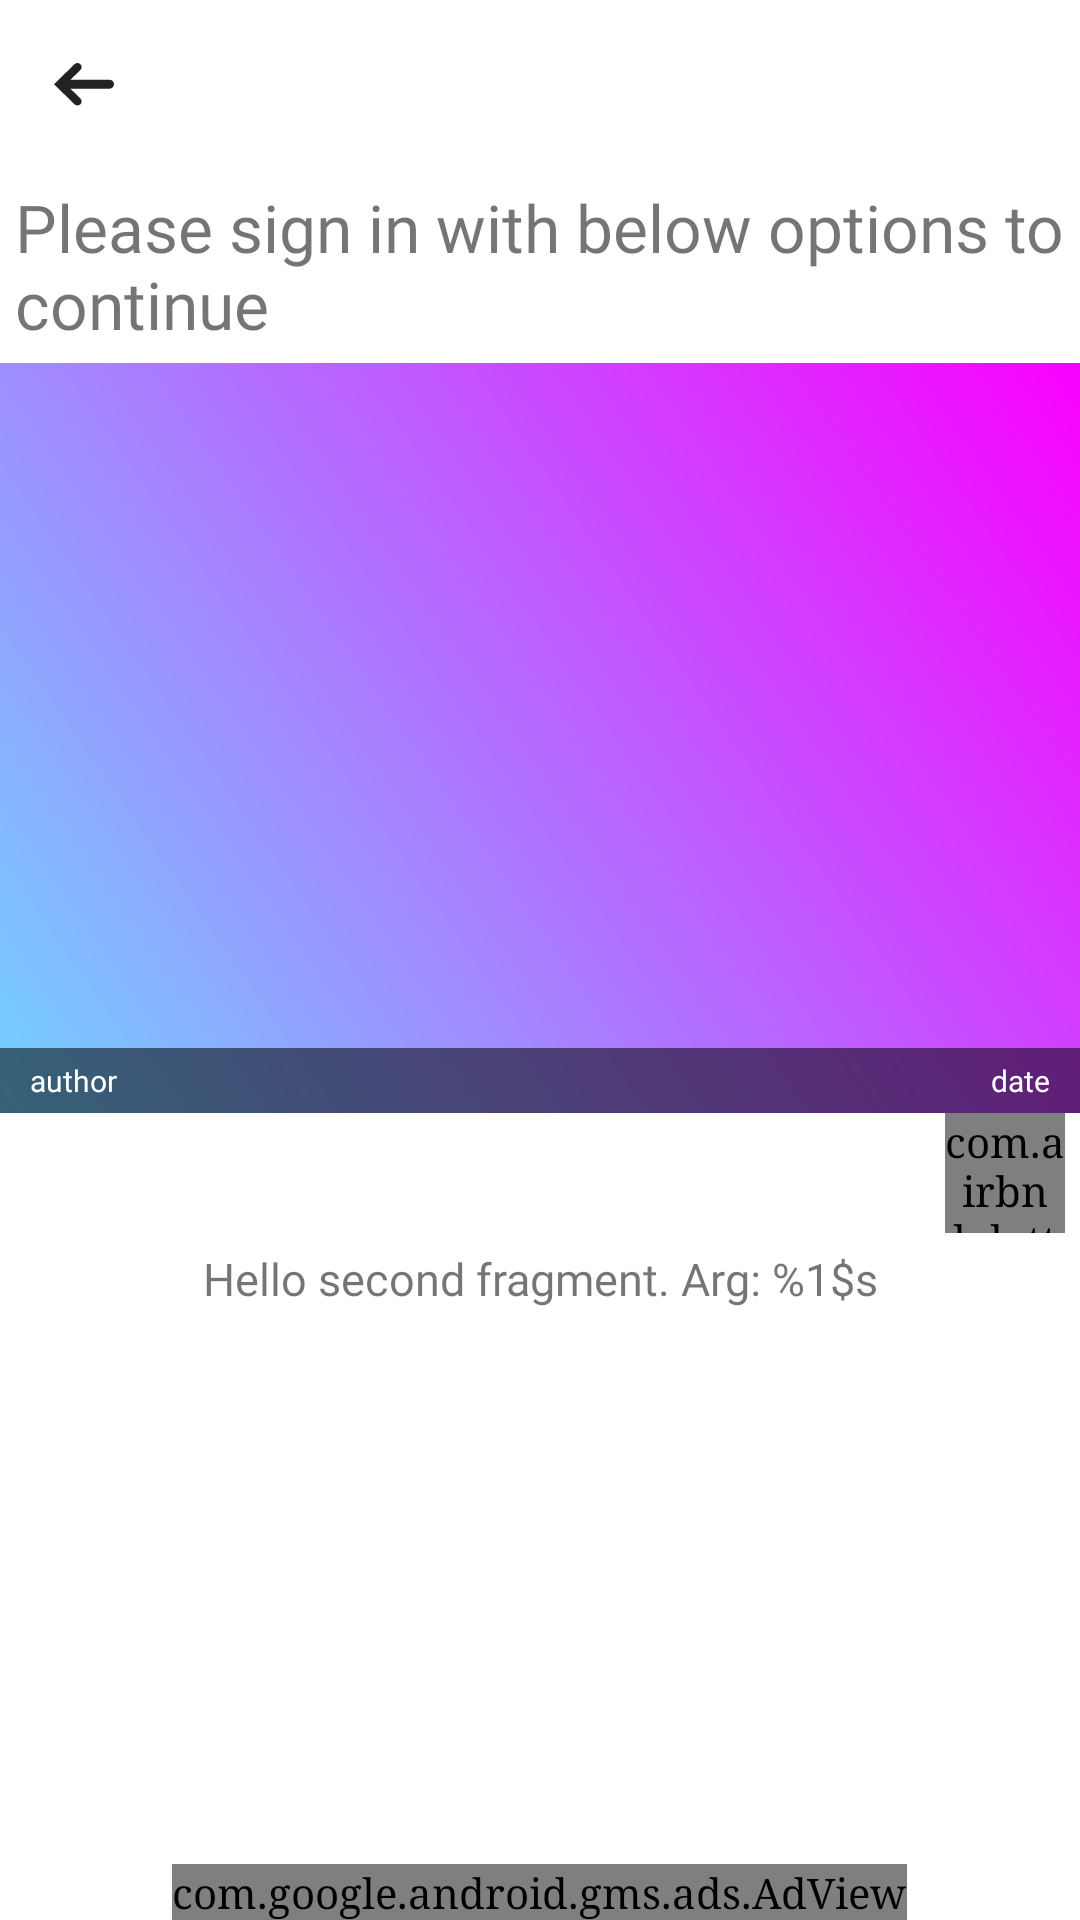

Icon click points for this 1080px×1920px phone screenshot, format [x,y]:
back arrow: [84,84]
